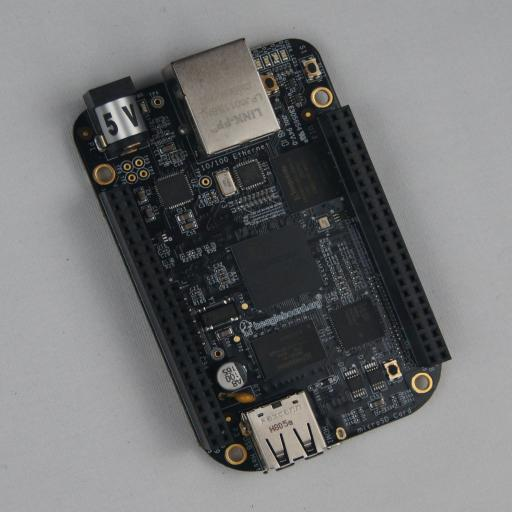Beaglebone Black: (72, 38, 451, 474)
